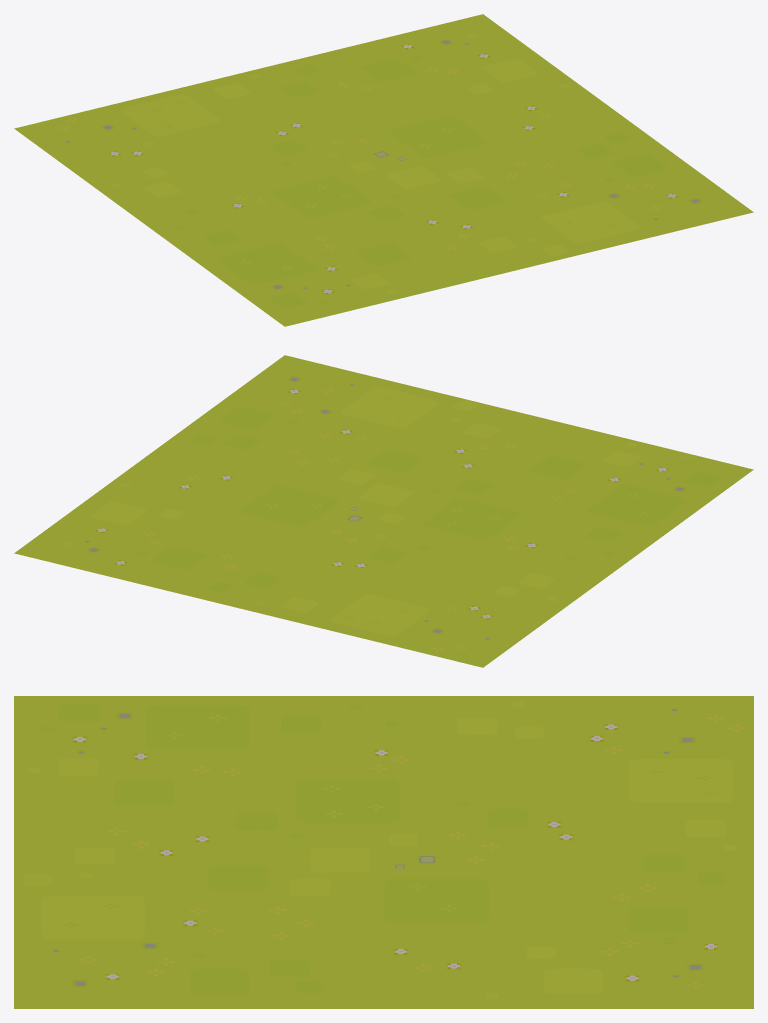
The model's file is C_grass2_09.fbx.
3 renders of one model, top to bottom at view 1: azimuth 30°, elevation 25°; view 2: azimuth 150°, elevation 25°; view 3: azimuth 270°, elevation 25°, orthographic. The views are drawn at different scales.
Visible parts, largest first — view 1: C_grass2_09.001; view 2: C_grass2_09.001; view 3: C_grass2_09.001.
Part boxes in pixels (x1=…): C_grass2_09.001: x1=14, y1=14, x2=753, y2=326; C_grass2_09.001: x1=14, y1=355, x2=753, y2=667; C_grass2_09.001: x1=14, y1=696, x2=753, y2=1008.
Size of the model in its own units: 50 by 0.1888 by 50.
Materials: 1 (1 with a texture image).
